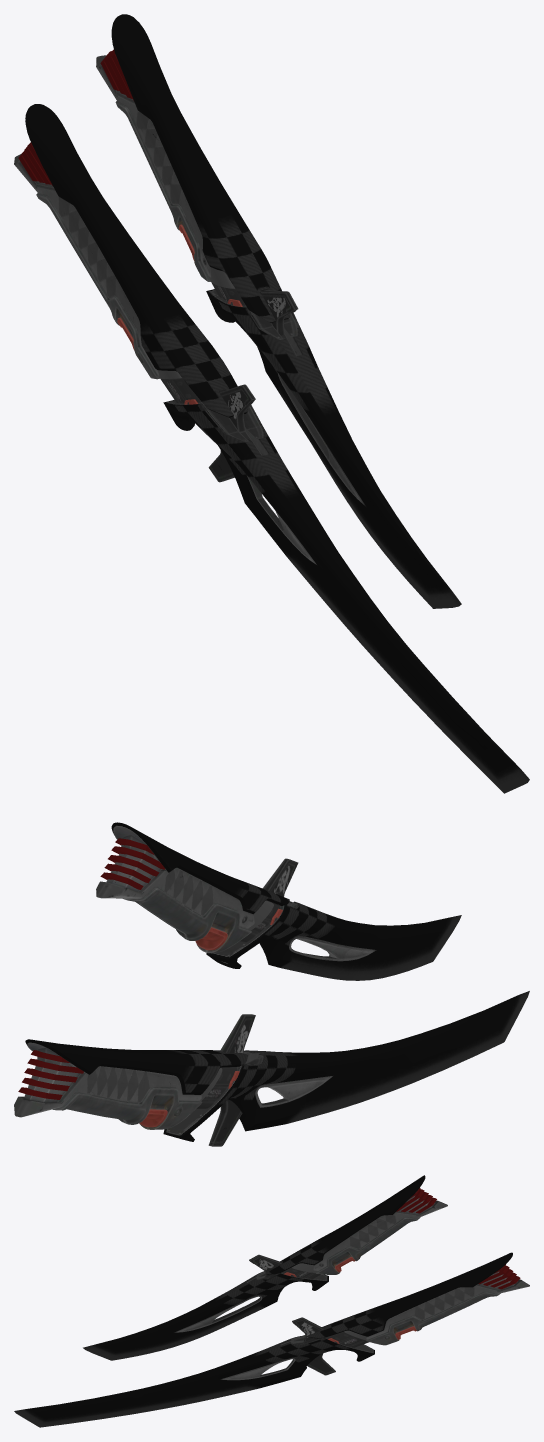
3 renders of one model, top to bottom at view 1: azimuth 30°, elevation 25°; view 2: azimuth 150°, elevation 25°; view 3: azimuth 270°, elevation 25°, orthographic. The views are drawn at different scales.
Parts seen in each view (by area): view 1: long_0_heirloom_agnostic_v25_veloform_heirloom_agnostic_v25_; view 2: long_0_heirloom_agnostic_v25_veloform_heirloom_agnostic_v25_; view 3: long_0_heirloom_agnostic_v25_veloform_heirloom_agnostic_v25_.
Boxes of the visible parts, x1,y1,x2,y2 form: long_0_heirloom_agnostic_v25_veloform_heirloom_agnostic_v25_: [14, 14, 529, 793]; long_0_heirloom_agnostic_v25_veloform_heirloom_agnostic_v25_: [14, 822, 529, 1146]; long_0_heirloom_agnostic_v25_veloform_heirloom_agnostic_v25_: [14, 1175, 529, 1427].
Size of the model in its own units: 1.33 by 12.45 by 23.14.
Materials: 1 (1 with a texture image).
